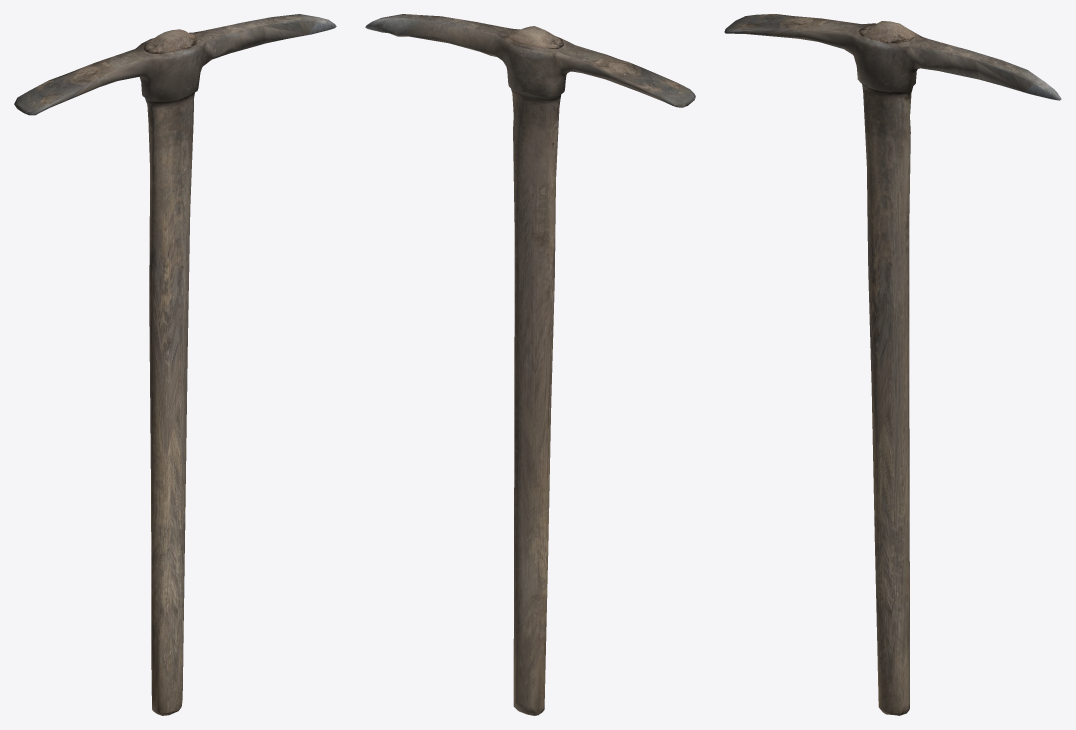
File: prop_pickaxe_01.glb
3 renders of one model, left to right at view 1: azimuth 30°, elevation 25°; view 2: azimuth 150°, elevation 25°; view 3: azimuth 330°, elevation 25°, orthographic.
Visible parts, largest first — view 1: prop_pickaxe_01; view 2: prop_pickaxe_01; view 3: prop_pickaxe_01.
Part boxes in pixels (x1,y1,x2,y2): prop_pickaxe_01: (14, 14, 336, 715); prop_pickaxe_01: (365, 14, 695, 715); prop_pickaxe_01: (724, 14, 1061, 715).
Size of the model in its own units: 0.5495 by 1.12 by 0.0698.
Materials: 1 (1 with a texture image).
